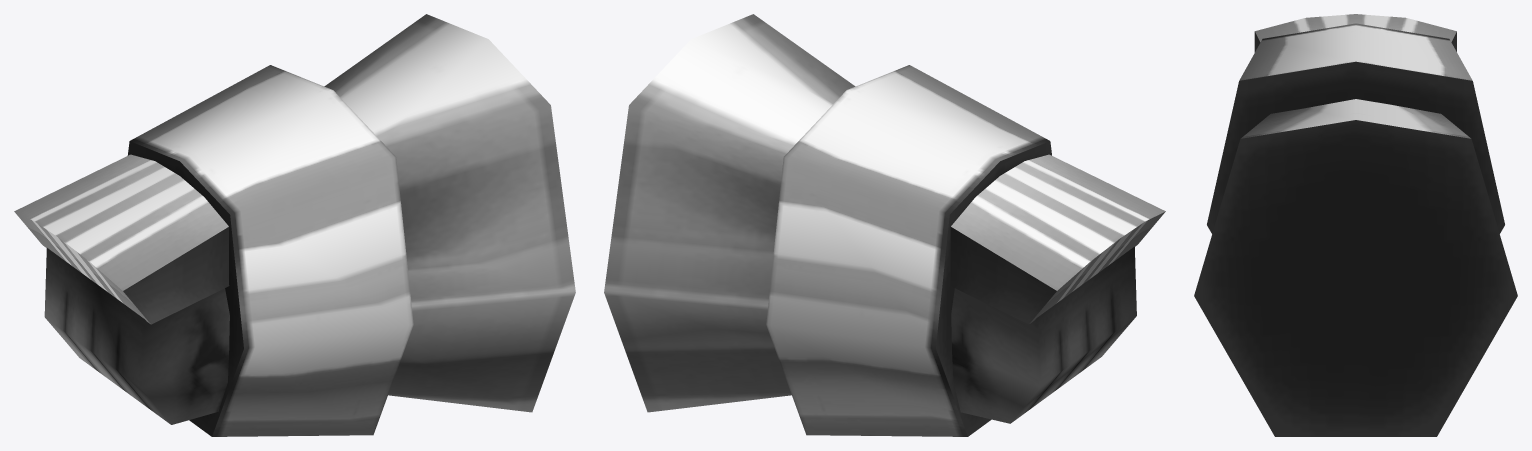
File: knuckle0013_r.fbx
3 views of the same model, side by side, from view 1: azimuth 30°, elevation 25°; view 2: azimuth 150°, elevation 25°; view 3: azimuth 270°, elevation 25° (orthographic). The views are drawn at different scales.
Visible parts, largest first — view 1: knuckle0013_m_r; view 2: knuckle0013_m_r; view 3: knuckle0013_m_r.
Boxes of the visible parts, x1,y1,x2,y2 form: knuckle0013_m_r: [14, 14, 575, 436]; knuckle0013_m_r: [604, 14, 1165, 436]; knuckle0013_m_r: [1194, 14, 1517, 436].
Bounding box in the file's own units: 0.2863 × 0.218 × 0.2019.
